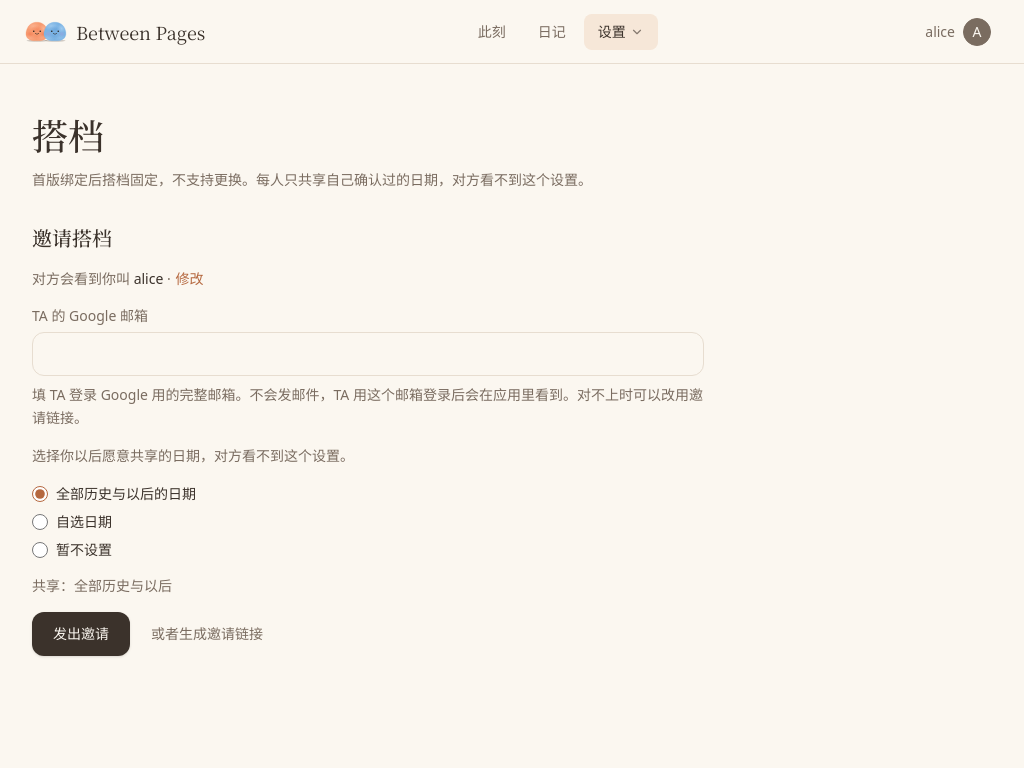
it: RelationshipPanel › [adr:spaces-and-invitations#3] says a retried invitation has no link to show again
Click the text "暂不设置": [72, 550] box 32,540 -> 112,559
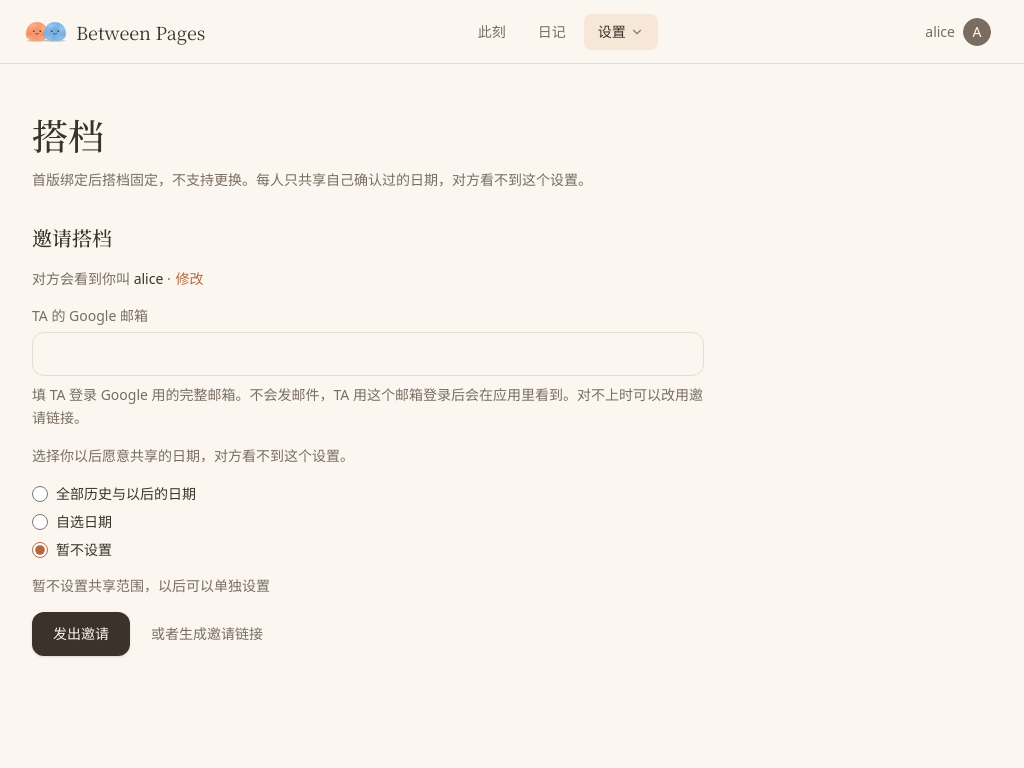
Click the button "或者生成邀请链接": [207, 634] box 150,623 -> 264,645
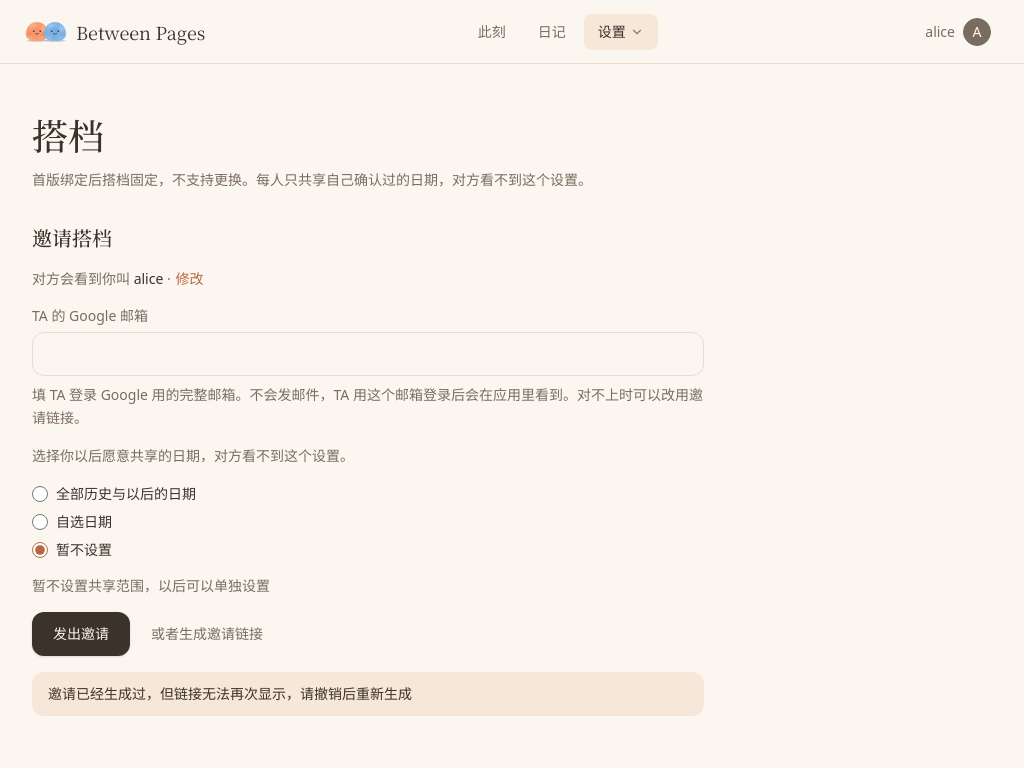
Result: the message reads "邀请已经生成过，但链接无法再次显示，请撤销后重新生成" at 48,684 -> 412,703
